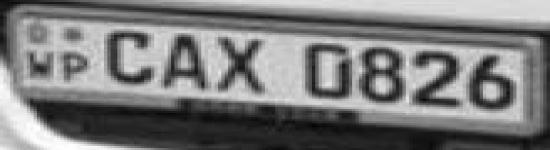0: (293, 39, 356, 102)
2: (412, 45, 467, 112)
6: (465, 49, 525, 116)
8: (355, 42, 412, 108)
A: (158, 27, 215, 92)
C: (99, 27, 159, 85)
P: (62, 50, 94, 83)
W: (23, 49, 61, 82)
X: (213, 31, 281, 98)
